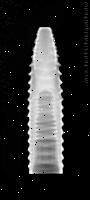Cowellmedi: (26, 26, 64, 174)
